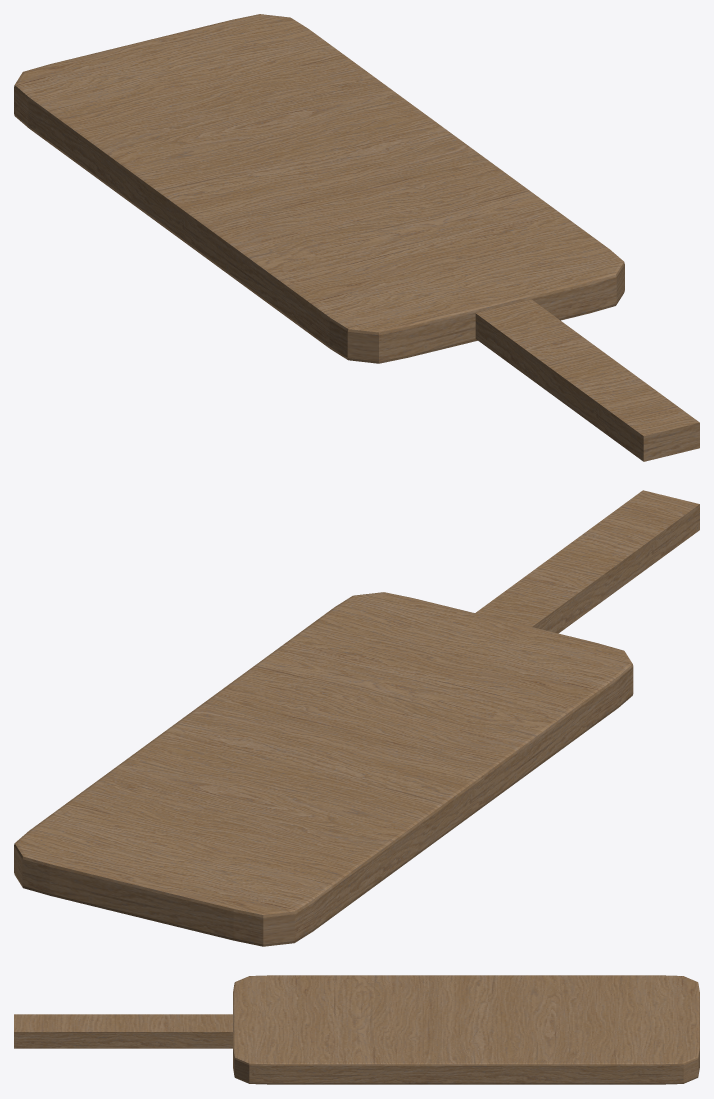
File: Cutting Board.fbx
The picture shows the model from 3 angles, top to bottom: view 1: azimuth 30°, elevation 25°; view 2: azimuth 150°, elevation 25°; view 3: azimuth 270°, elevation 25°; orthographic projection. The views are drawn at different scales.
Parts seen in each view (by area): view 1: Cutting Board; view 2: Cutting Board; view 3: Cutting Board.
Boxes of the visible parts, x1,y1,x2,y2 form: Cutting Board: [14, 14, 699, 461]; Cutting Board: [14, 490, 699, 946]; Cutting Board: [14, 975, 699, 1084].
Size of the model in its own units: 19.24 by 2.08 by 62.54.
